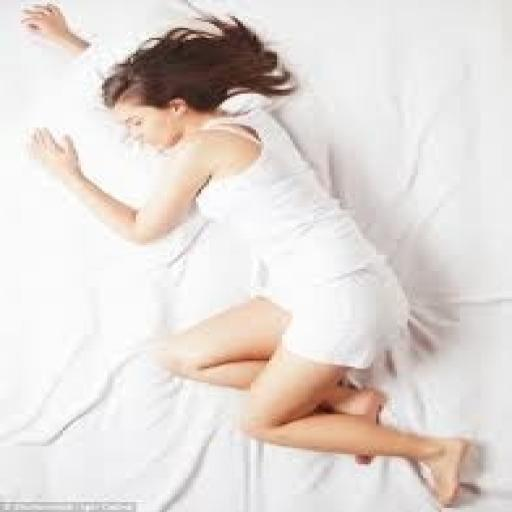sleeping: (16, 0, 480, 508)
